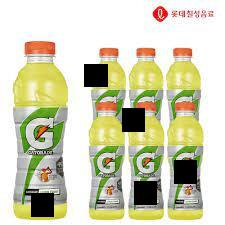gatorade_lemon: (10, 40, 68, 219), (166, 102, 204, 219), (89, 101, 125, 218), (128, 103, 164, 219)
